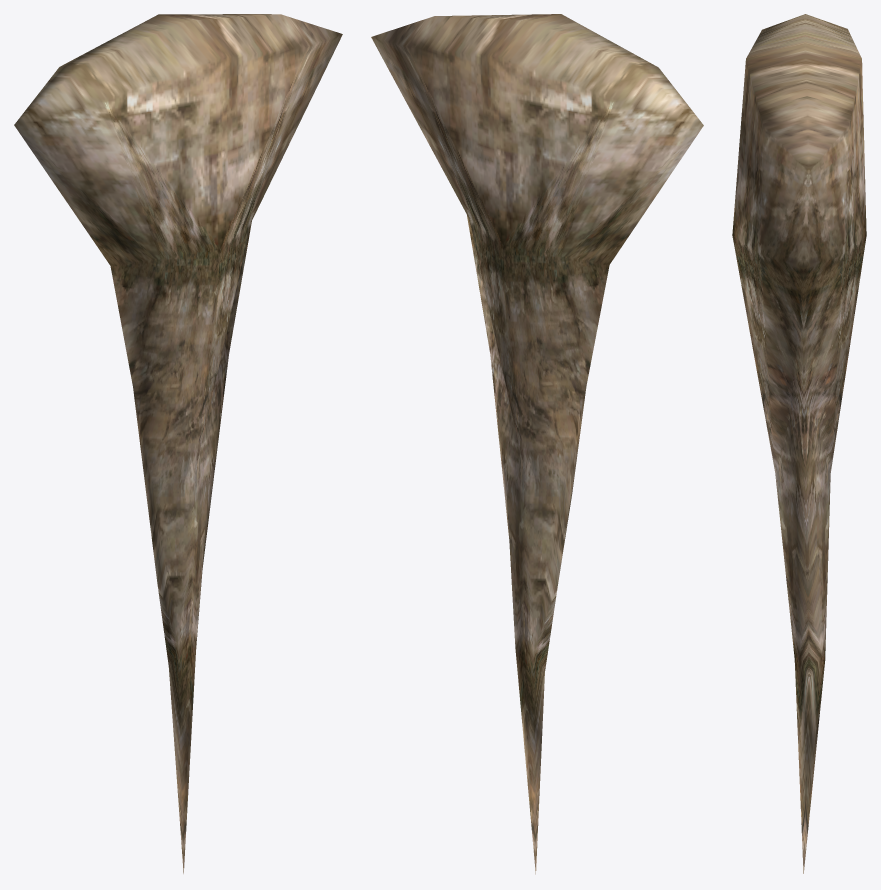
File: thm_all_cave_stalagtite_a1_l1.fbx
3 views of the same model, side by side, from view 1: azimuth 30°, elevation 25°; view 2: azimuth 150°, elevation 25°; view 3: azimuth 270°, elevation 25° (orthographic). The views are drawn at different scales.
Parts seen in each view (by area): view 1: mesh_node; view 2: mesh_node; view 3: mesh_node.
Boxes of the visible parts, bbox=[...] form: mesh_node: bbox=[14, 14, 342, 873]; mesh_node: bbox=[371, 14, 703, 874]; mesh_node: bbox=[732, 14, 866, 873].
Size of the model in its own units: 0.764 by 1.88 by 0.2748.
